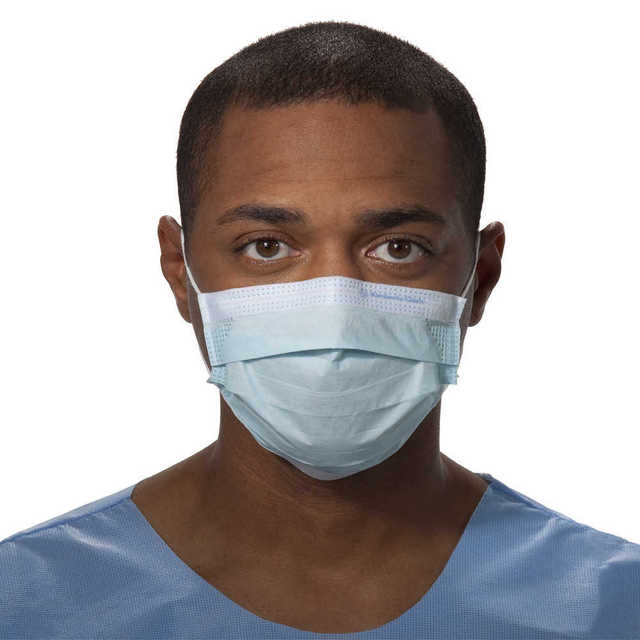mask: (188, 291, 477, 470)
